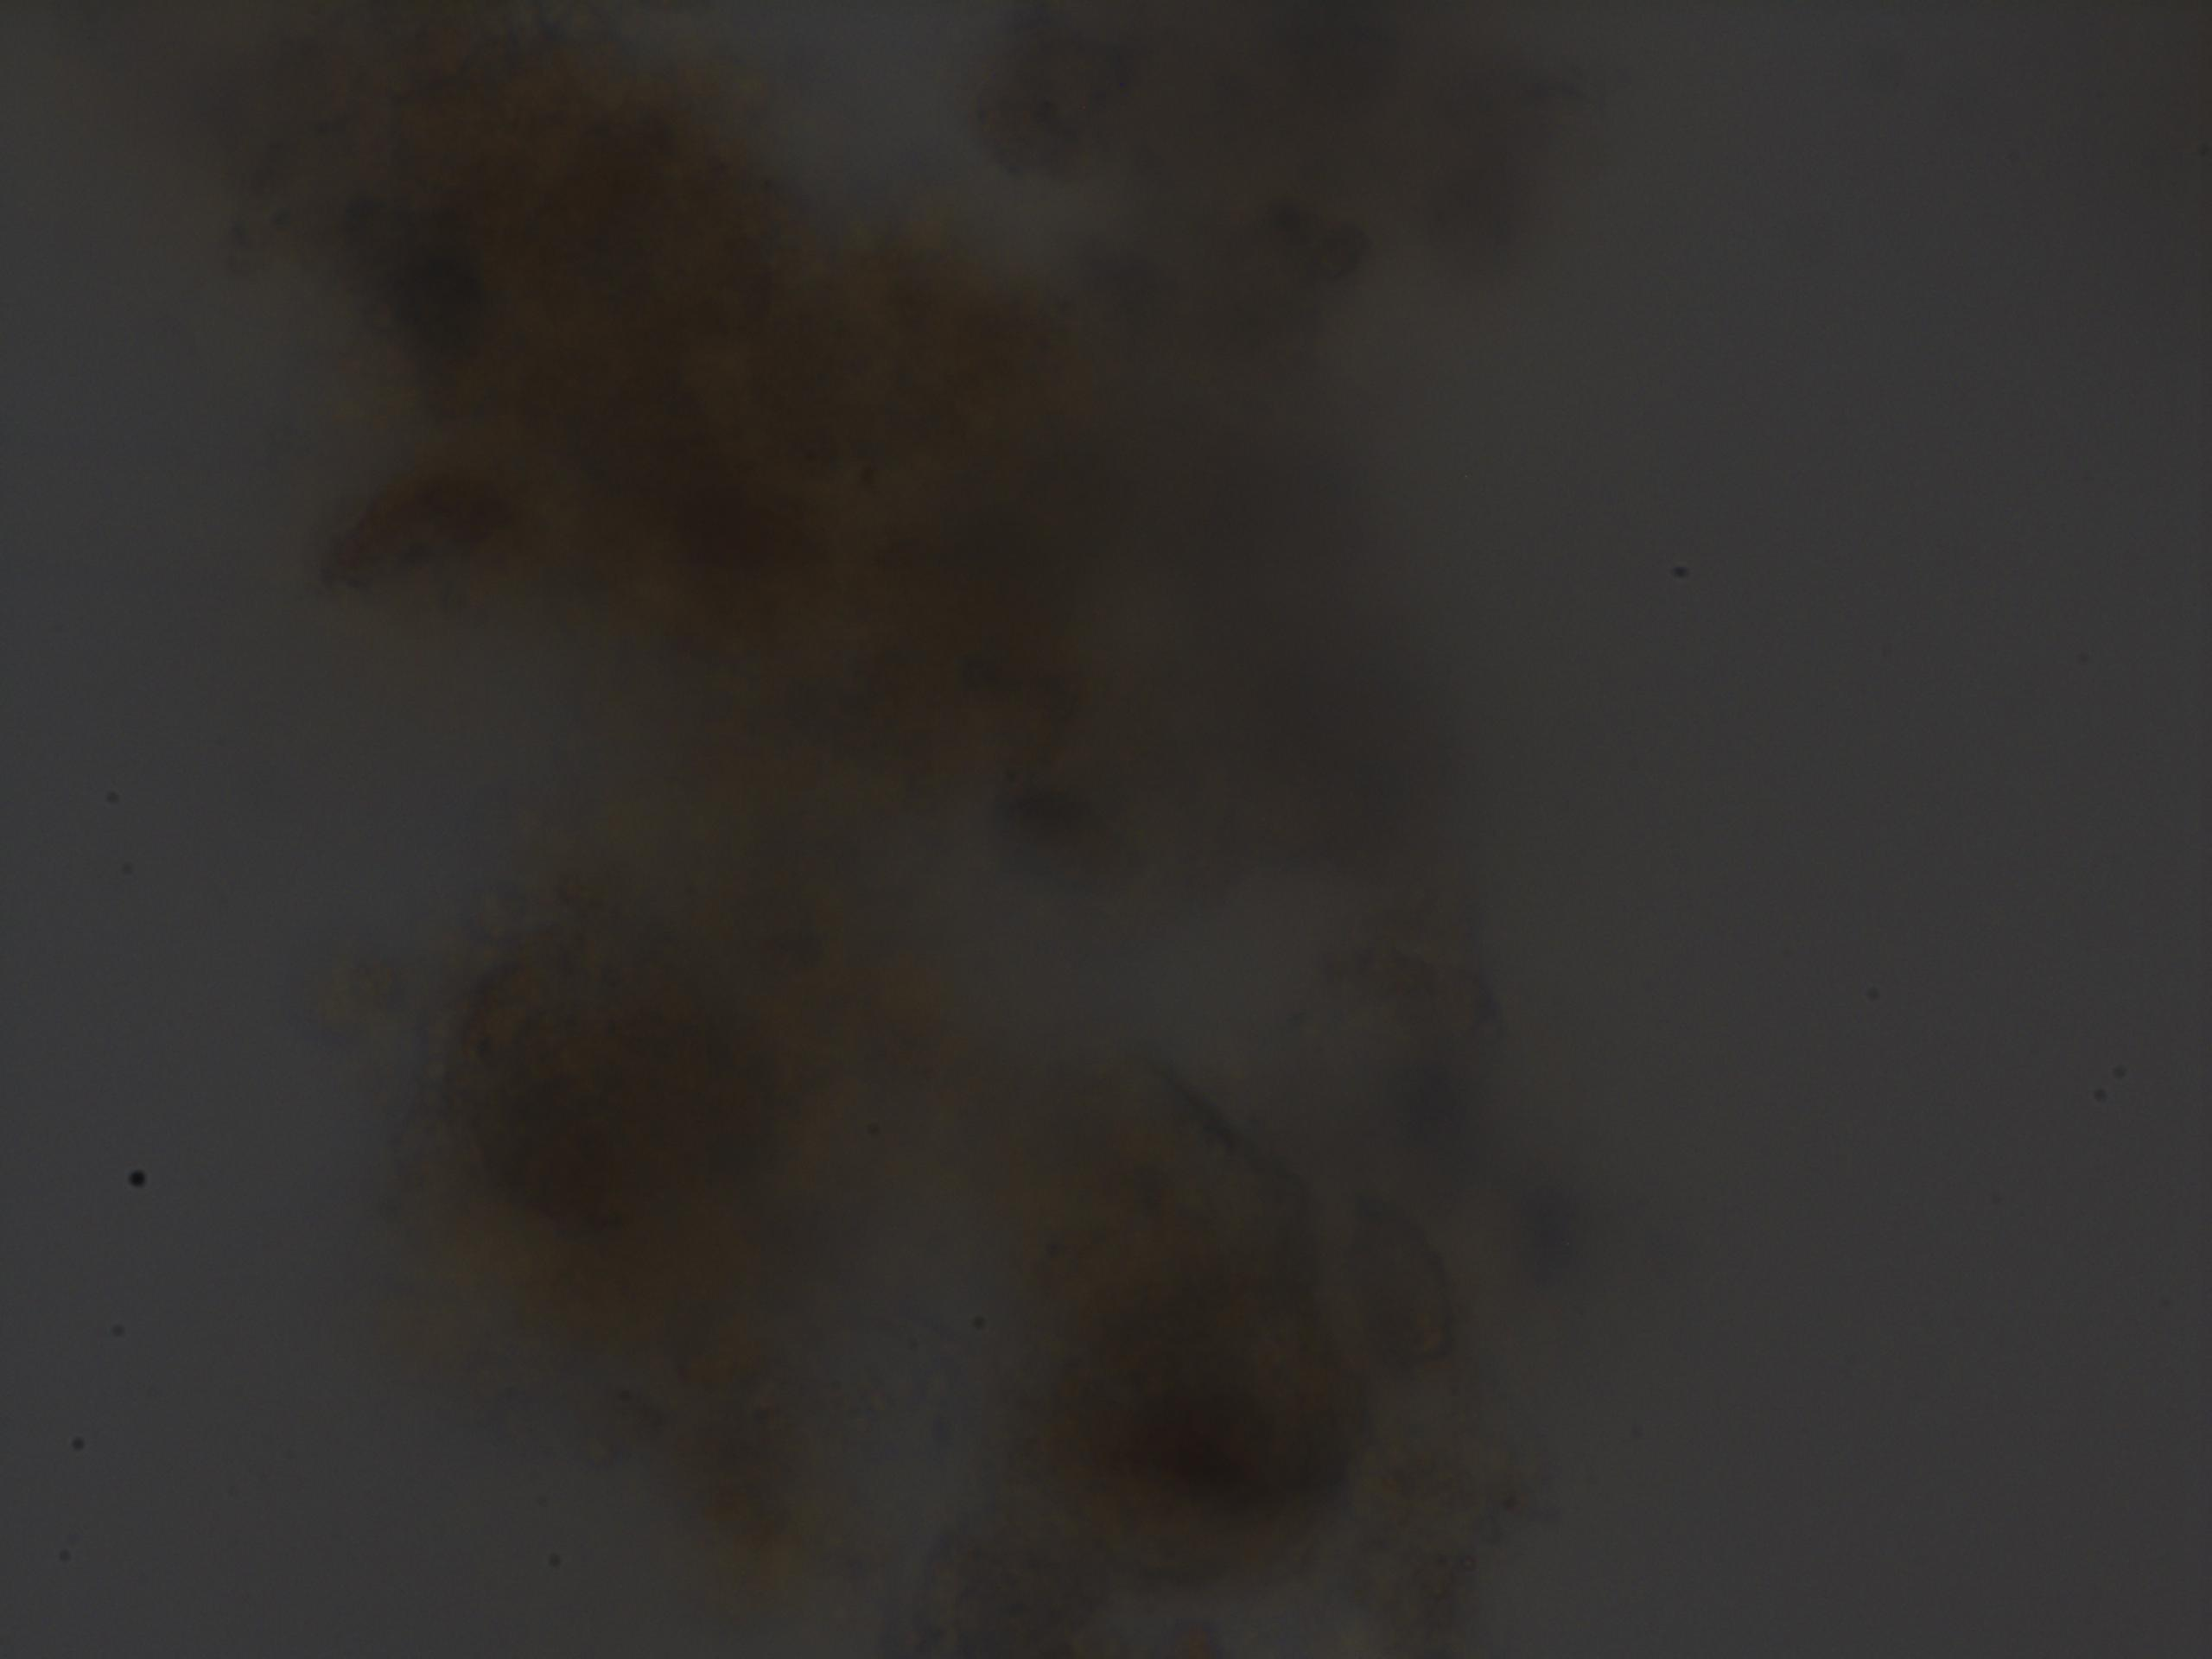open_floc: (223, 12, 1568, 1659)
